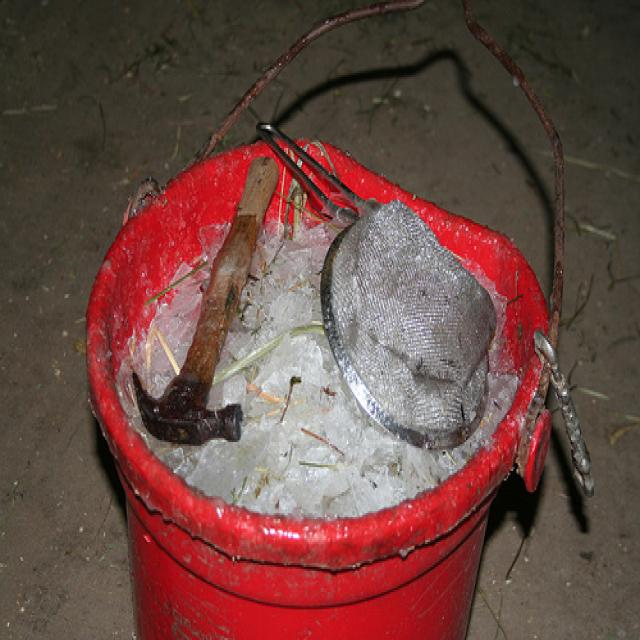hammer: (132, 142, 280, 452)
